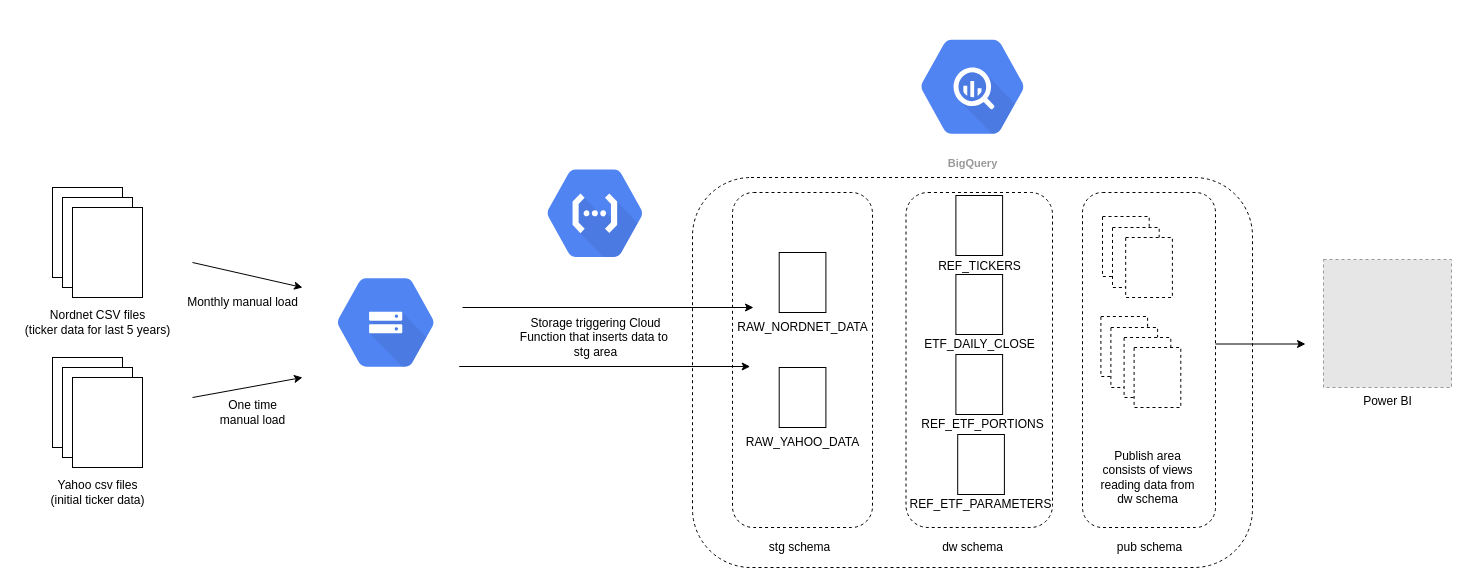
Some shapes in this 1469 by 585 pixel diagram are drawn without their labels. Grey dashed boxes stand in for pictures. The shapes that lost their labels are listed below. From the top down, each one's box as (x1, y1, x2, y2) in pixels, then its label:
(522, 148, 667, 277): Cloud Functions
(312, 257, 459, 387): Cloud Storage
